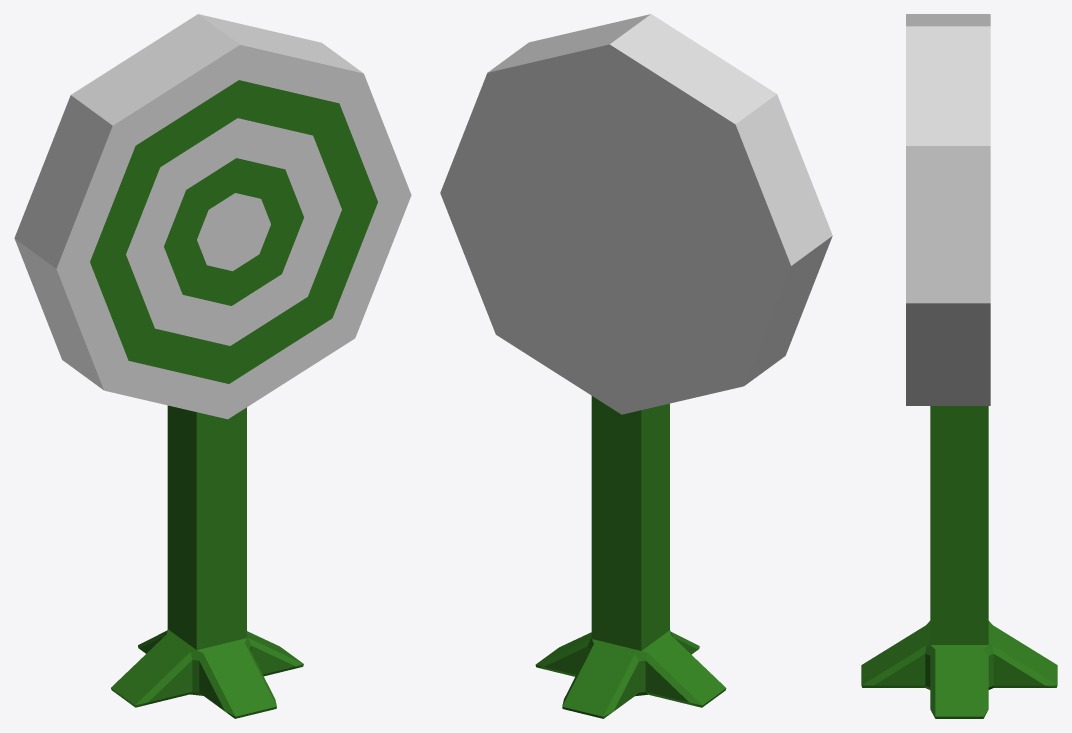
The model's file is GreenTarget.fbx.
3 views of the same model, side by side, from view 1: azimuth 30°, elevation 25°; view 2: azimuth 150°, elevation 25°; view 3: azimuth 270°, elevation 25° (orthographic).
Parts seen in each view (by area): view 1: Target.005; view 2: Target.005; view 3: Target.005.
Boxes of the visible parts, x1=… form: Target.005: x1=14, y1=14, x2=411, y2=718; Target.005: x1=440, y1=14, x2=832, y2=718; Target.005: x1=861, y1=14, x2=1057, y2=718.
Size of the model in its own units: 436 by 765 by 208.
